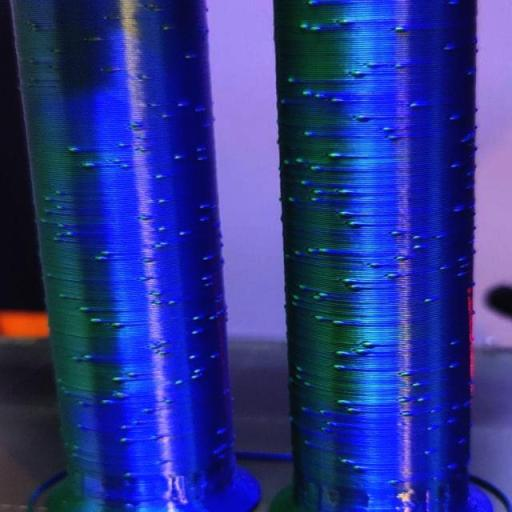blobs: (62, 139, 86, 154), (326, 149, 344, 164), (117, 434, 135, 448), (364, 60, 386, 71), (339, 206, 356, 220), (334, 396, 352, 409), (310, 290, 326, 304), (448, 158, 462, 173), (447, 360, 462, 374), (349, 220, 366, 232), (79, 162, 99, 172), (296, 404, 314, 415), (426, 422, 440, 436), (404, 98, 420, 110), (189, 368, 203, 381), (395, 252, 410, 264), (446, 404, 464, 414), (314, 422, 329, 434), (182, 51, 198, 62), (388, 477, 404, 488), (443, 460, 459, 471), (356, 112, 370, 124), (352, 70, 366, 82), (295, 280, 309, 292), (354, 346, 368, 358), (448, 336, 460, 350), (214, 424, 228, 436), (338, 455, 352, 467), (447, 112, 462, 123), (388, 227, 404, 237), (338, 276, 358, 284), (395, 395, 411, 405), (120, 422, 136, 432), (100, 248, 114, 259), (450, 205, 464, 216), (194, 103, 208, 114), (297, 438, 311, 449), (386, 270, 401, 280), (442, 44, 457, 54), (114, 390, 130, 399), (101, 397, 117, 406), (332, 364, 348, 373), (48, 46, 64, 55), (323, 416, 335, 428), (89, 316, 103, 326), (142, 405, 156, 415), (383, 124, 397, 134), (315, 92, 329, 102), (307, 194, 321, 204), (291, 292, 305, 302), (361, 340, 375, 350), (411, 381, 425, 391), (310, 24, 324, 34), (88, 35, 102, 45), (148, 432, 162, 442), (76, 400, 90, 410), (342, 406, 357, 415), (94, 253, 106, 264), (199, 200, 210, 212), (314, 313, 326, 324), (290, 246, 303, 256), (339, 17, 352, 27), (299, 22, 312, 32), (348, 283, 364, 291), (120, 163, 134, 172), (174, 99, 188, 108), (422, 295, 436, 304), (304, 0, 318, 9), (118, 139, 128, 151), (110, 320, 125, 328), (79, 306, 94, 314), (201, 252, 213, 262), (198, 214, 210, 224), (172, 378, 184, 388), (370, 262, 385, 270), (286, 302, 301, 310), (395, 24, 407, 34), (309, 163, 322, 172), (454, 257, 468, 265), (317, 246, 331, 254), (316, 407, 330, 415), (438, 263, 448, 274), (304, 380, 315, 390), (76, 421, 87, 431), (172, 153, 184, 162), (294, 156, 306, 165), (311, 188, 324, 196), (58, 292, 71, 300), (194, 313, 204, 323), (210, 350, 220, 360), (286, 74, 296, 84), (446, 416, 456, 426), (463, 68, 474, 77), (175, 230, 187, 238), (389, 134, 401, 142), (332, 96, 344, 104), (308, 246, 320, 254), (68, 354, 80, 362), (158, 112, 170, 120), (160, 25, 172, 33), (456, 437, 468, 445), (410, 235, 423, 242), (152, 174, 167, 180), (197, 154, 206, 164), (112, 374, 122, 383), (84, 352, 94, 361), (300, 176, 309, 186), (457, 270, 466, 280), (415, 398, 430, 404), (124, 472, 133, 482), (139, 275, 150, 283), (302, 129, 313, 137), (412, 242, 423, 250), (334, 350, 345, 358), (352, 465, 363, 473), (126, 372, 140, 378), (422, 450, 436, 456), (166, 298, 175, 307), (112, 156, 122, 164), (334, 318, 344, 326), (202, 282, 215, 288), (302, 90, 315, 96), (42, 209, 54, 215), (65, 231, 74, 239), (159, 198, 168, 206), (200, 275, 209, 283), (400, 370, 408, 379), (142, 256, 152, 263), (296, 366, 307, 372), (296, 375, 307, 381), (43, 195, 52, 202), (55, 190, 65, 196), (190, 330, 200, 336), (55, 230, 63, 237), (159, 224, 167, 231), (56, 205, 66, 210), (57, 223, 67, 228), (189, 352, 196, 358)
